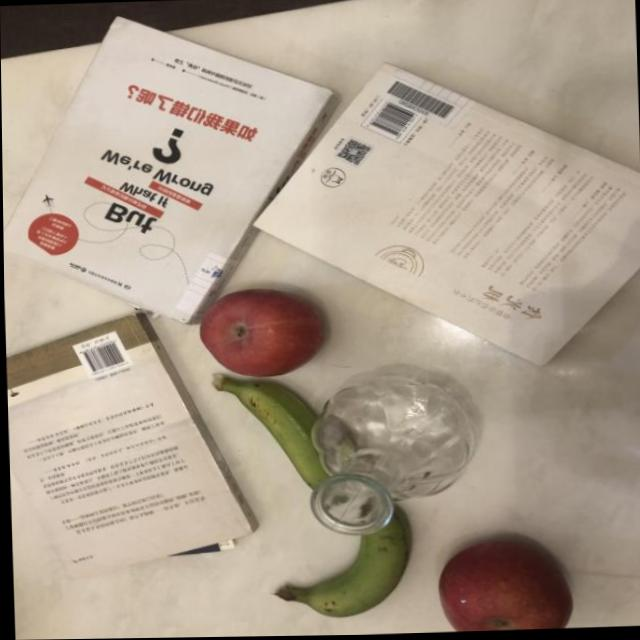Apple: (188, 270, 338, 402), (416, 518, 578, 633)
Banana: (178, 357, 364, 505), (251, 480, 415, 637)
Book: (177, 61, 640, 391), (0, 0, 339, 342), (4, 302, 250, 590)
